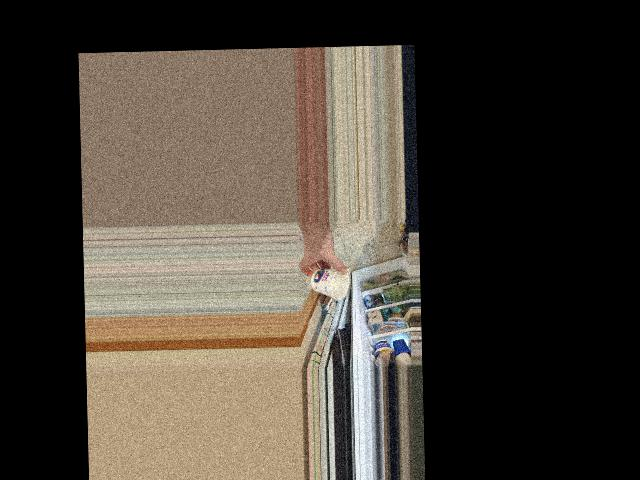cotage: (310, 264, 341, 301)
